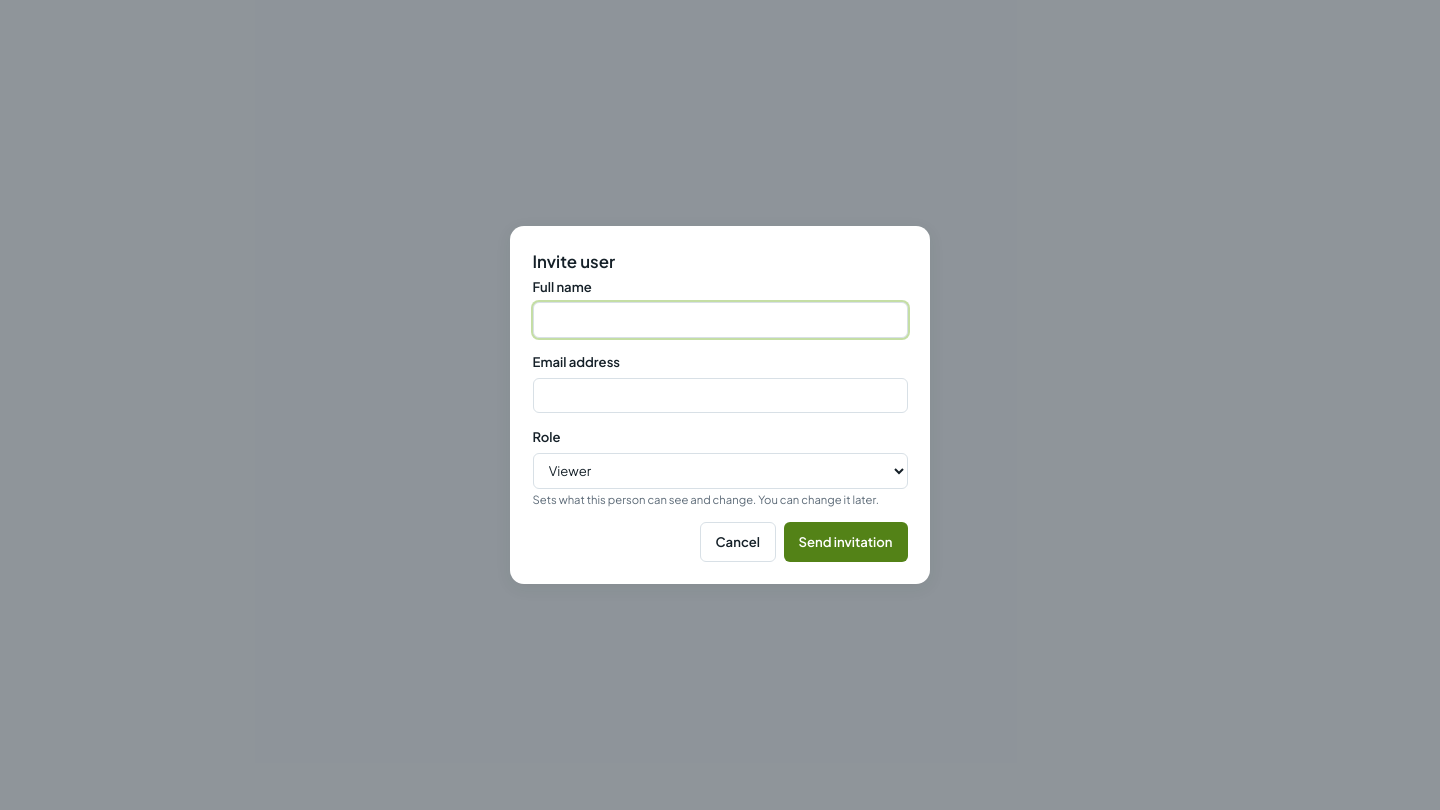
Test: InviteUserModal › rejects a malformed email address
In the field labelled "Full name": (720, 320) top-left (532, 302), bottom-right (908, 338), type "Casey Lin"
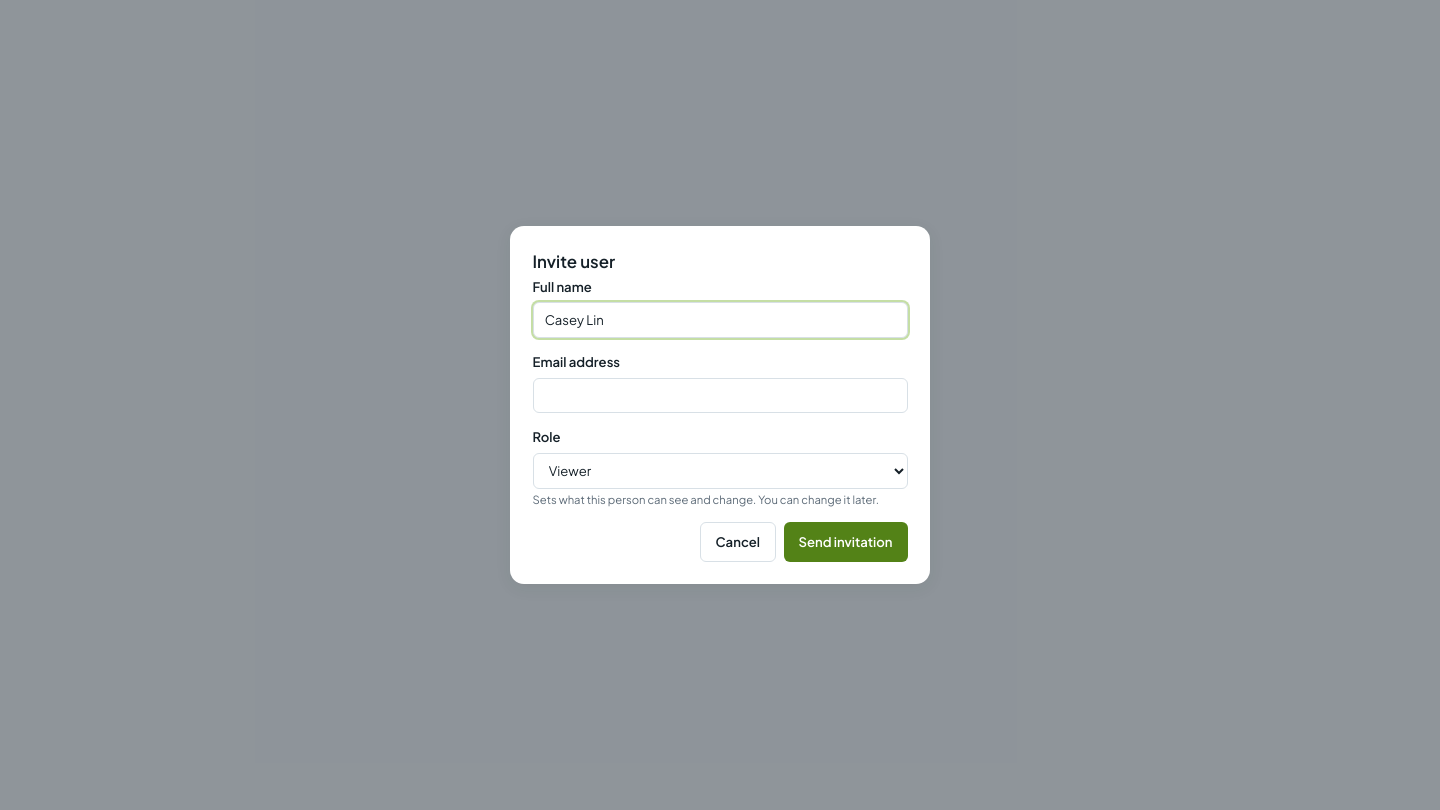
In the field labelled "Email address": (720, 396) top-left (532, 378), bottom-right (908, 413), type "casey-at-horizon"
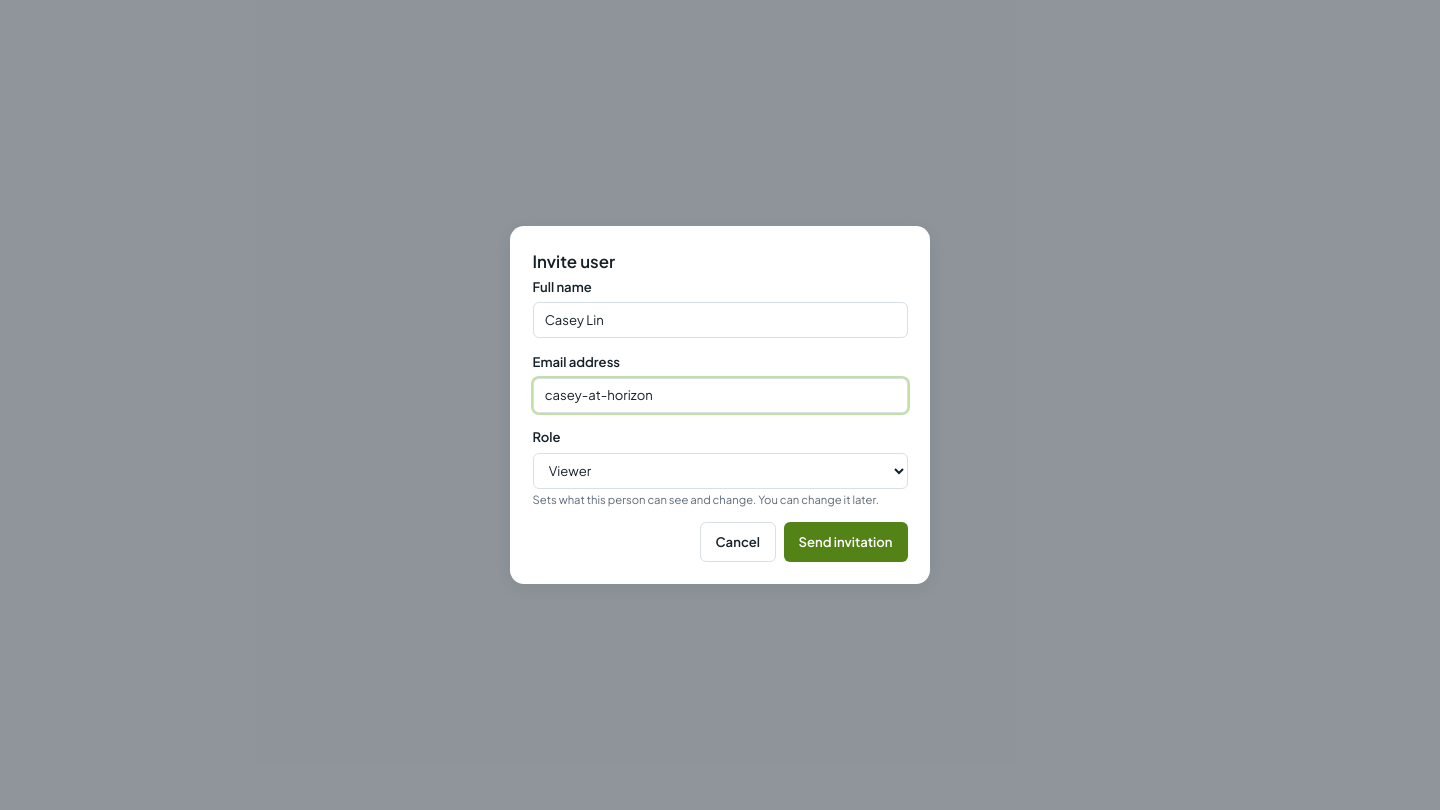
Click the button "Send invitation": (846, 542) top-left (784, 522), bottom-right (908, 562)
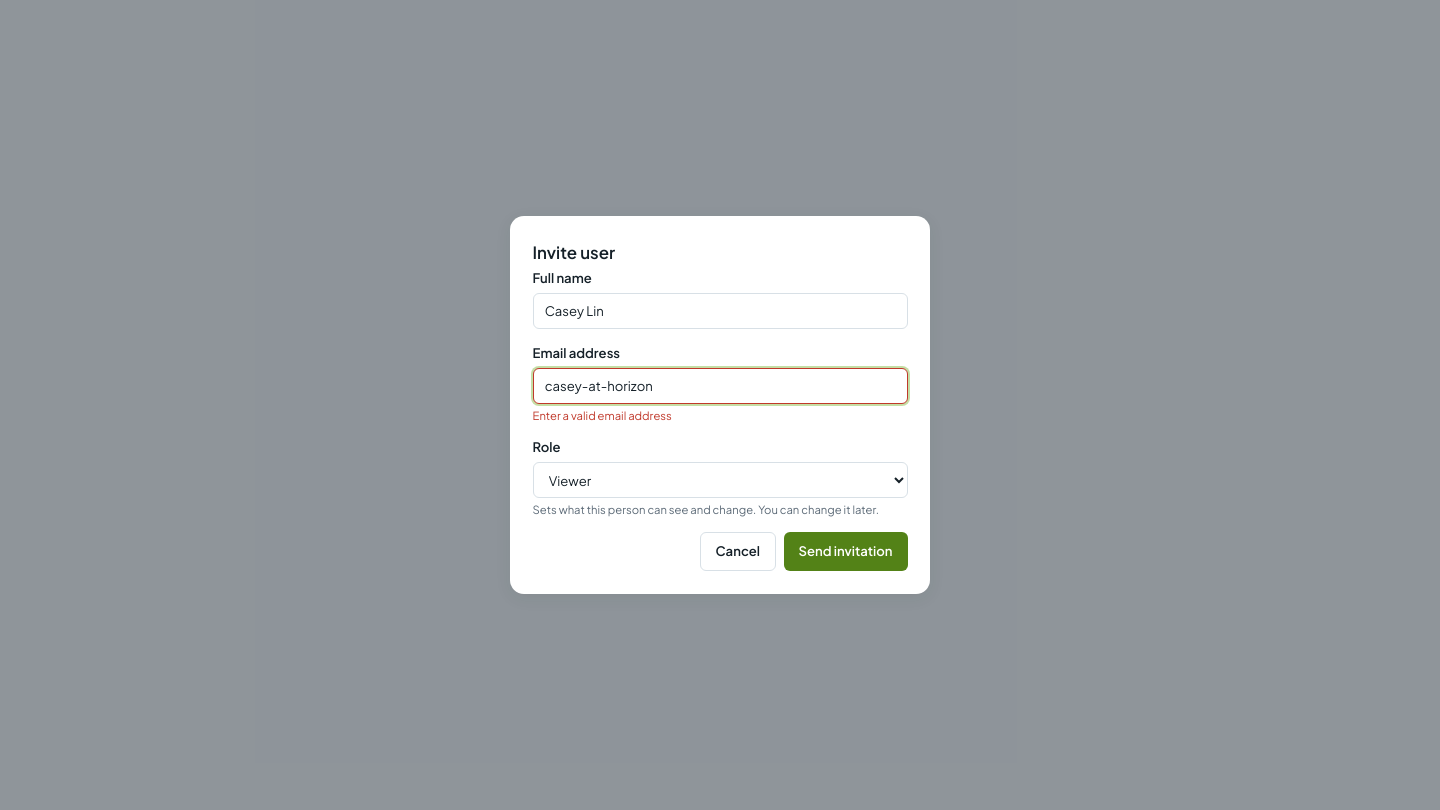
Expected: the text "Enter a valid email address" is shown, top-left (532, 408), bottom-right (672, 422)
